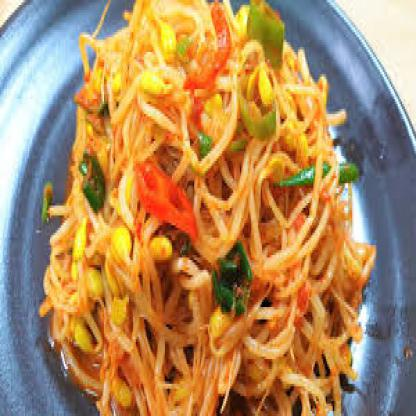seasoned bean sprouts: (70, 0, 346, 414)
